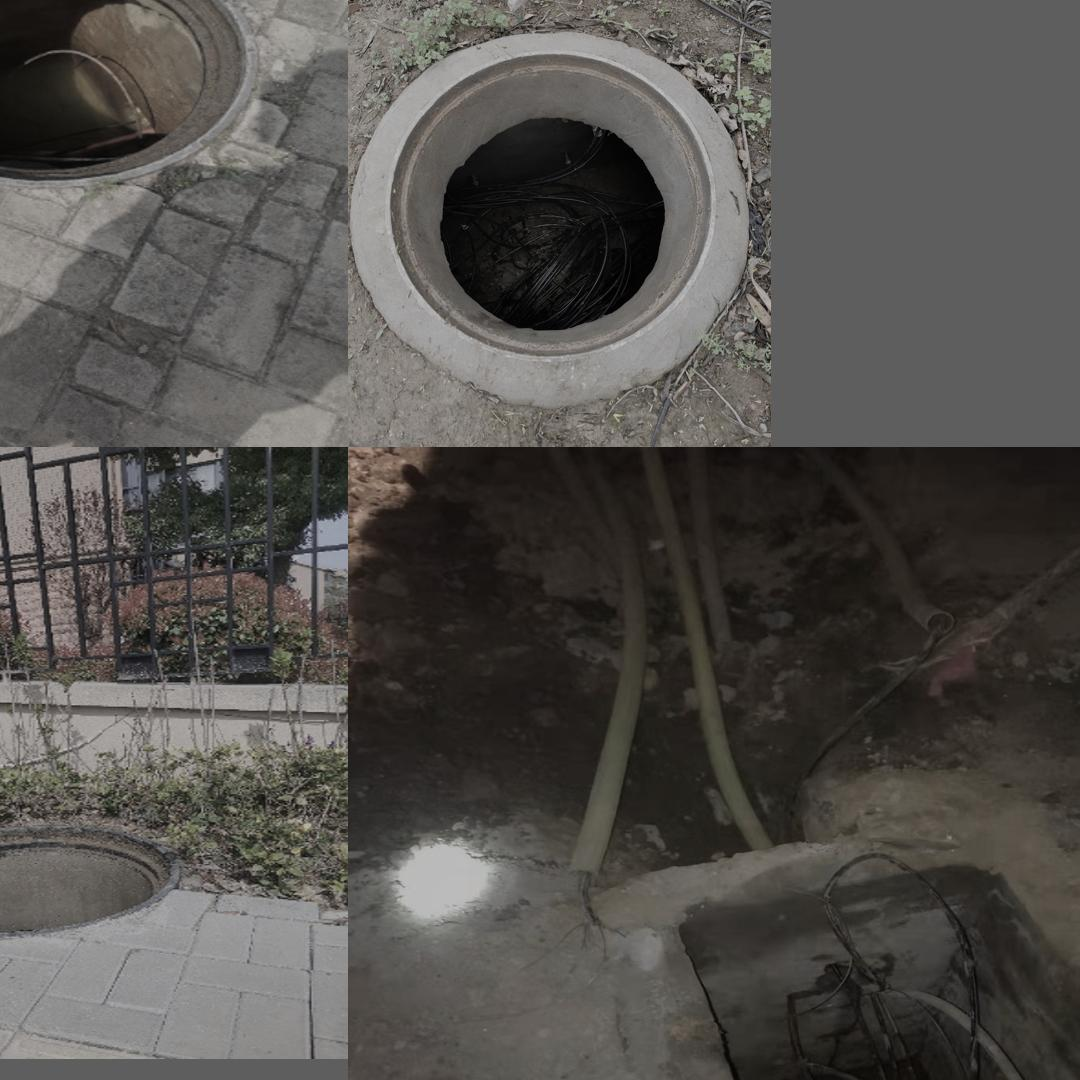lose: (621, 823, 1080, 1080), (407, 37, 733, 356), (0, 0, 274, 187), (0, 823, 183, 936)
